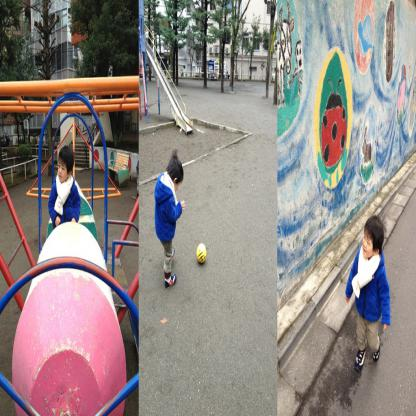Ball: (197, 243, 206, 265)
